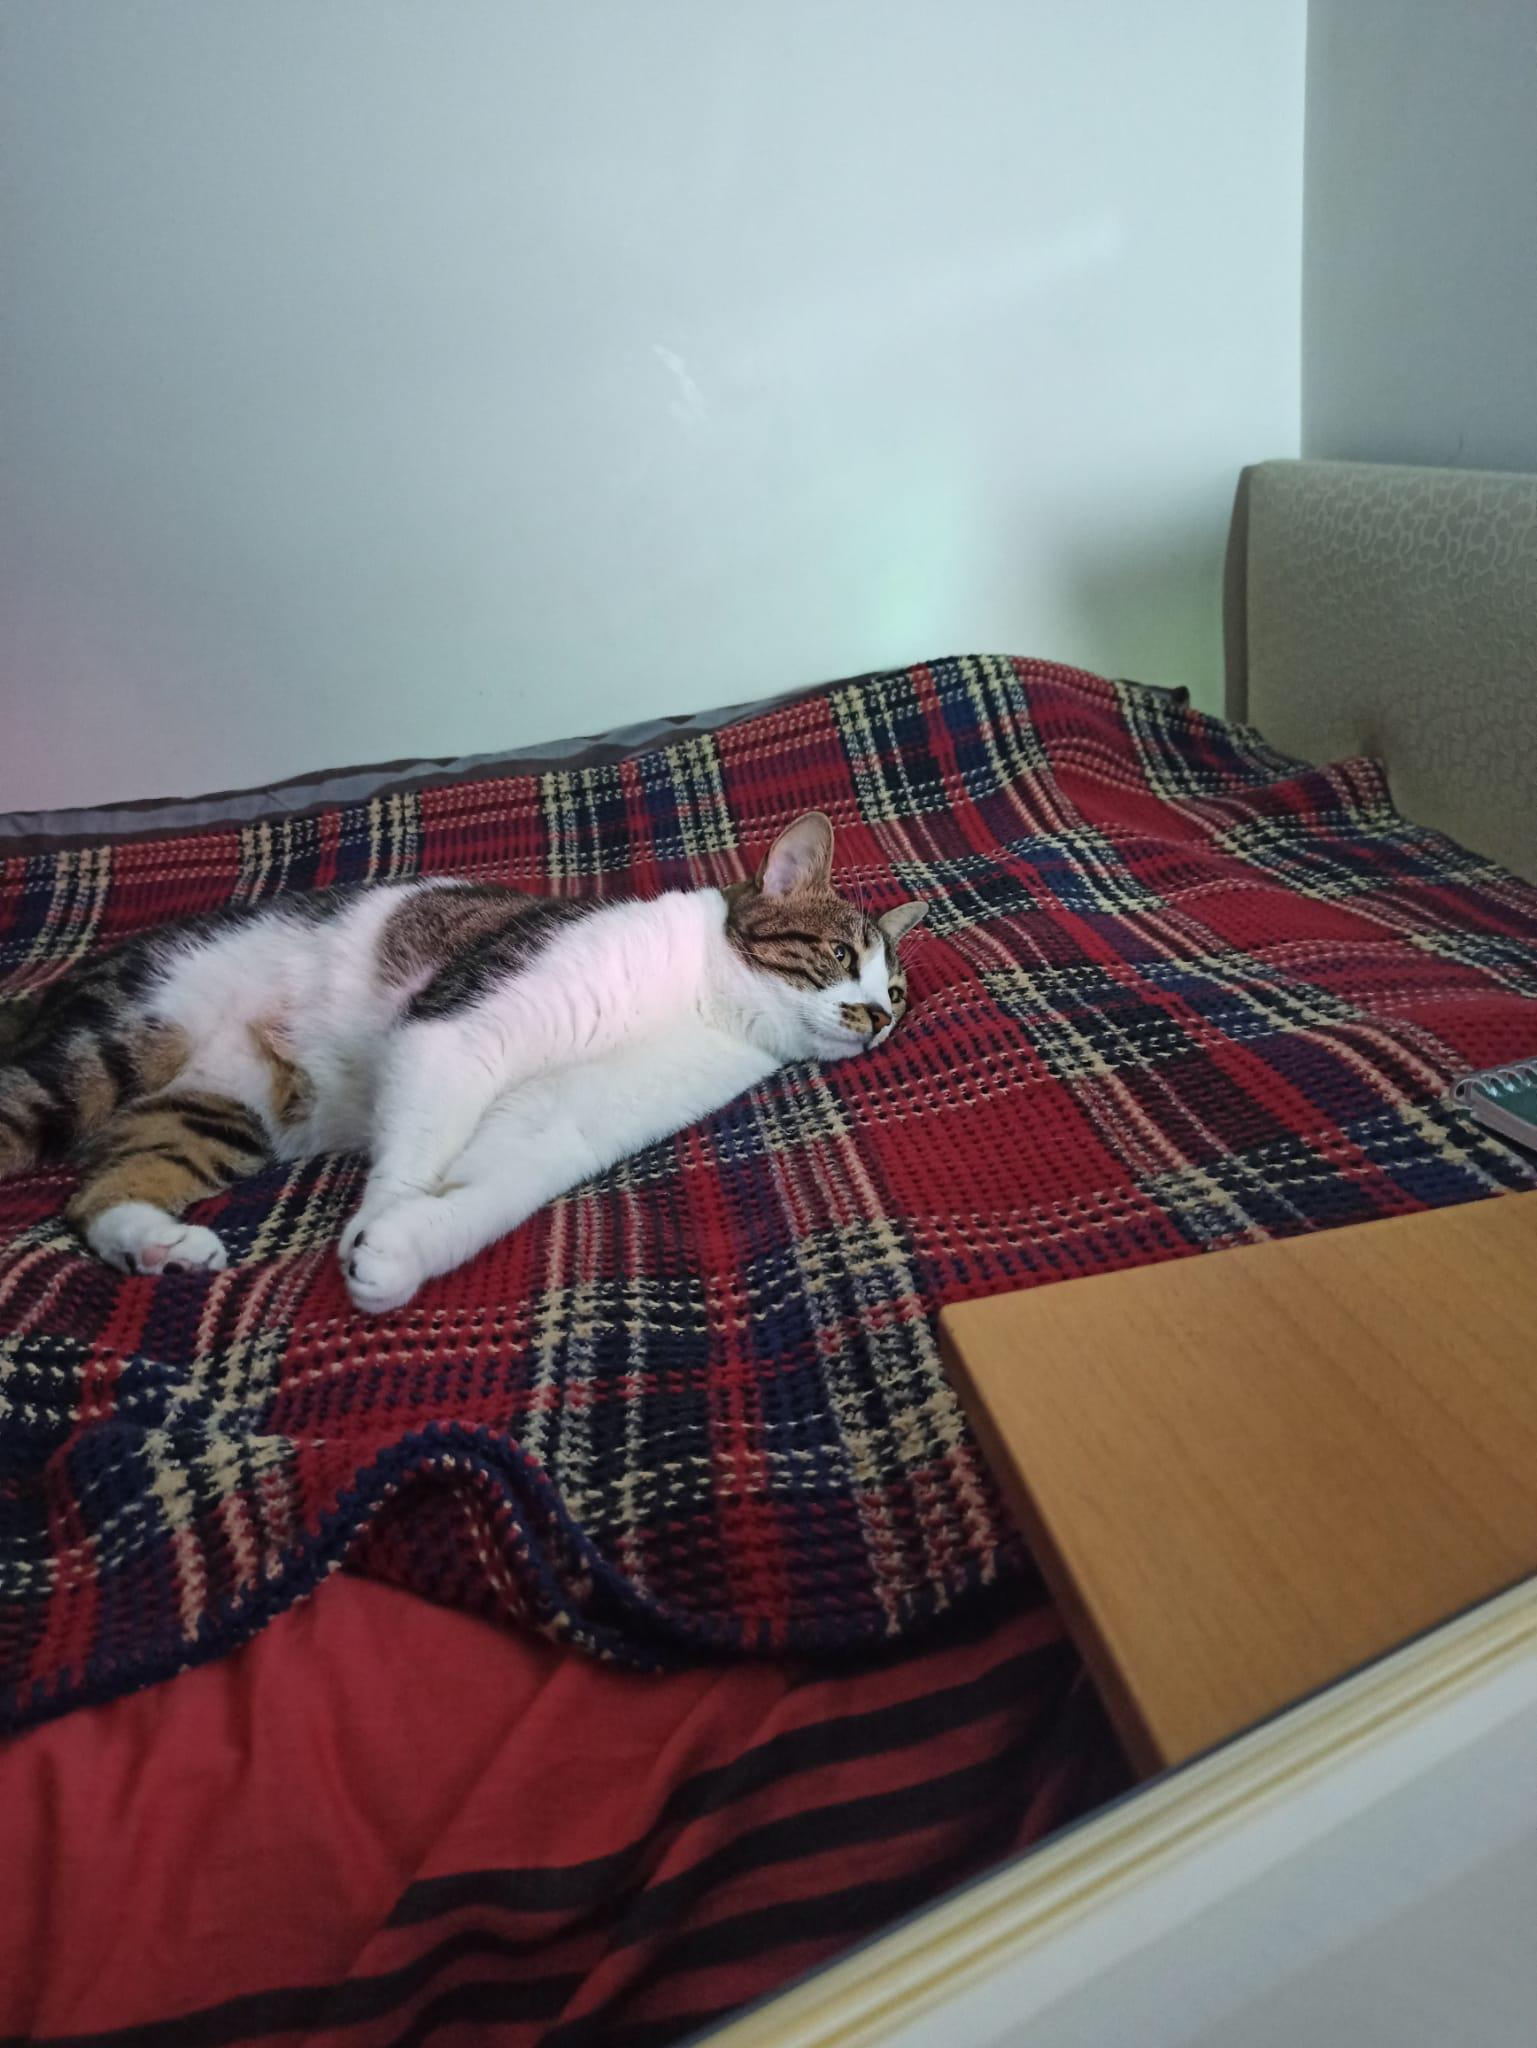kedo: (2, 812, 927, 1306)
